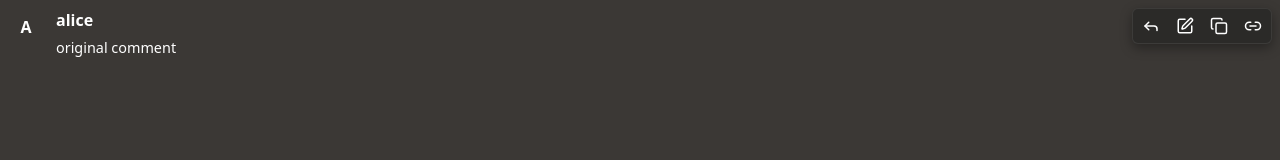
CommentItem edit behavior › 툴바에서 수정 버튼을 클릭하면 바로 편집 모드로 들어가야 함
This screenshot has width=1280, height=160.
Hover over the element with class "comment-wrapper" at (75, 20), box [0,0,1279,67]
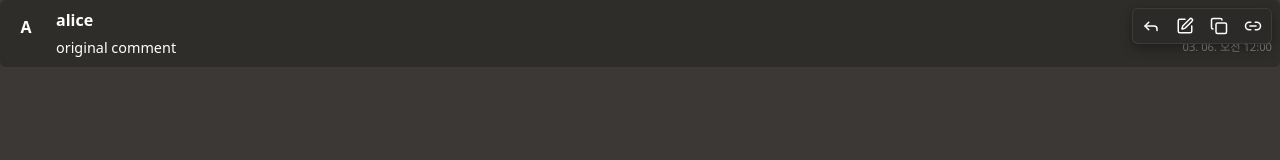
Click the button titled "수정" at (1185, 26), box [1170,12,1200,40]
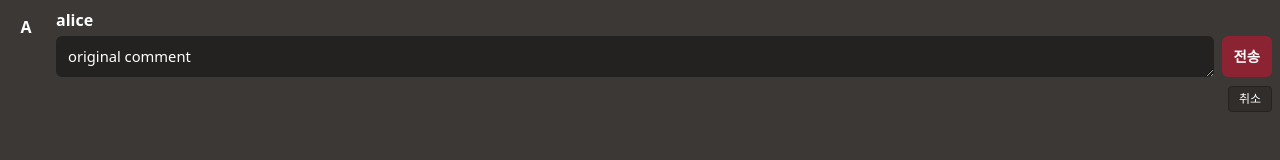
Now the text box with placeholder "댓글을 수정해줘" is shown, box [56,36,1214,77]
